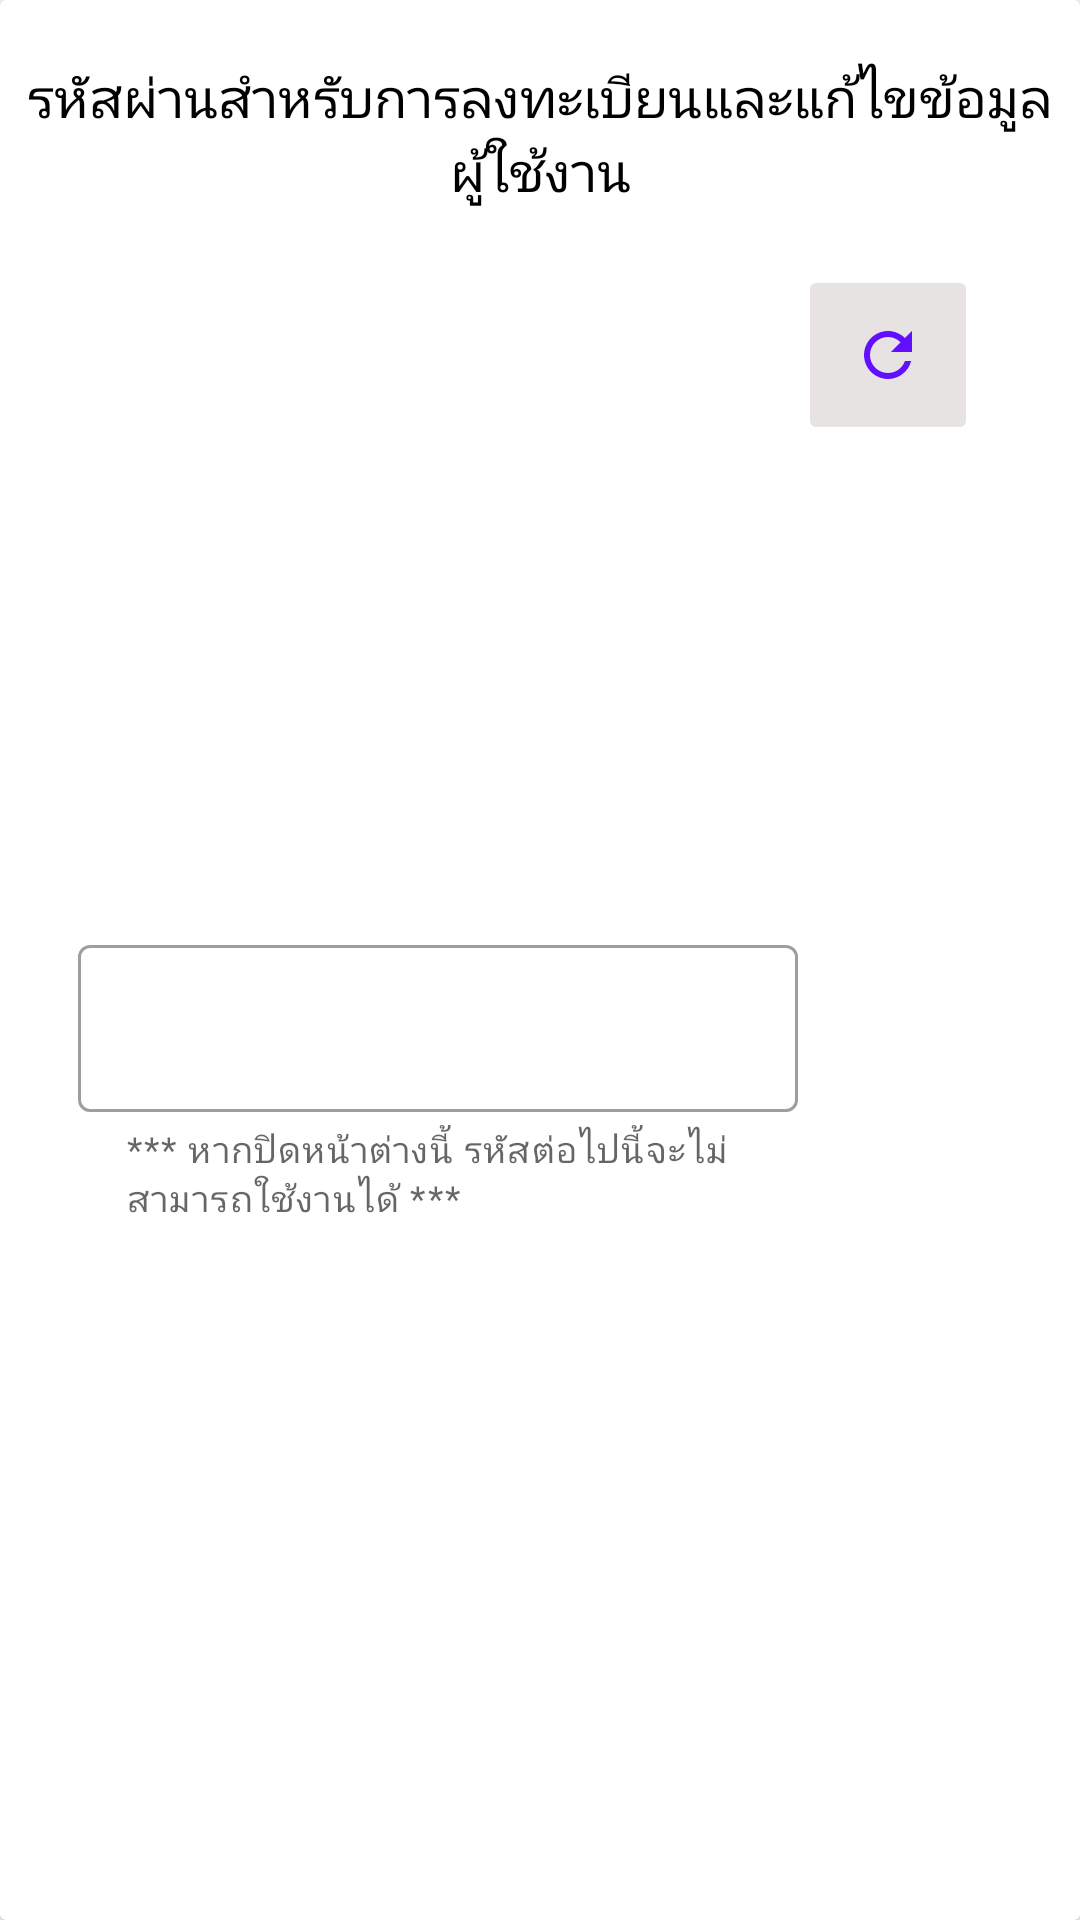

Named icons in this screenshot (1080x1920) and their bounding boxes, (x1, y1, x2, y2):
refresh: (810, 283, 966, 427)
